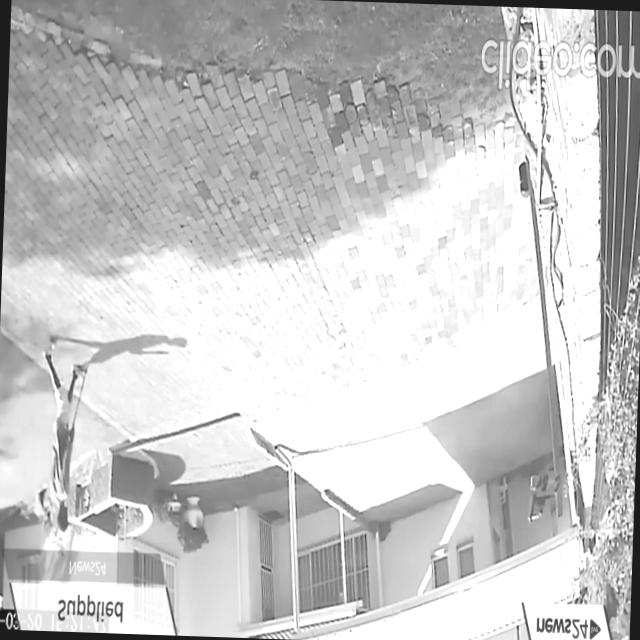weapon: (33, 340, 100, 540)
